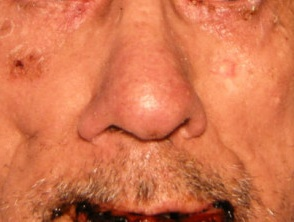SJS-TEN: (176, 0, 294, 87), (1, 0, 111, 87), (43, 191, 239, 222)
